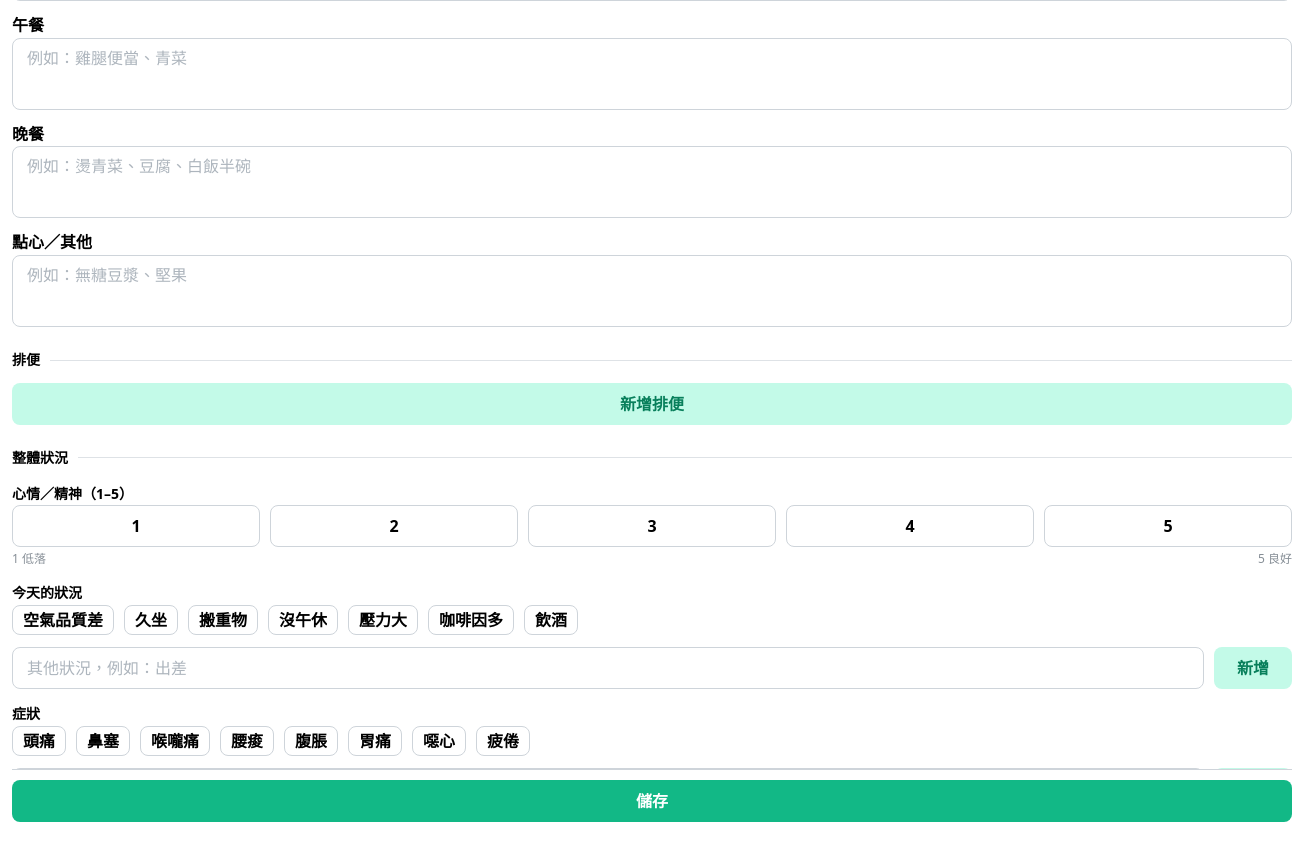
Test case: EntryForm：快速輸入 › 每一筆排便各自有「現在」按鈕，只改自己那一筆
(page scrolled)
Click the button "新增排便" at (652, 404), box [12,383,1292,425]
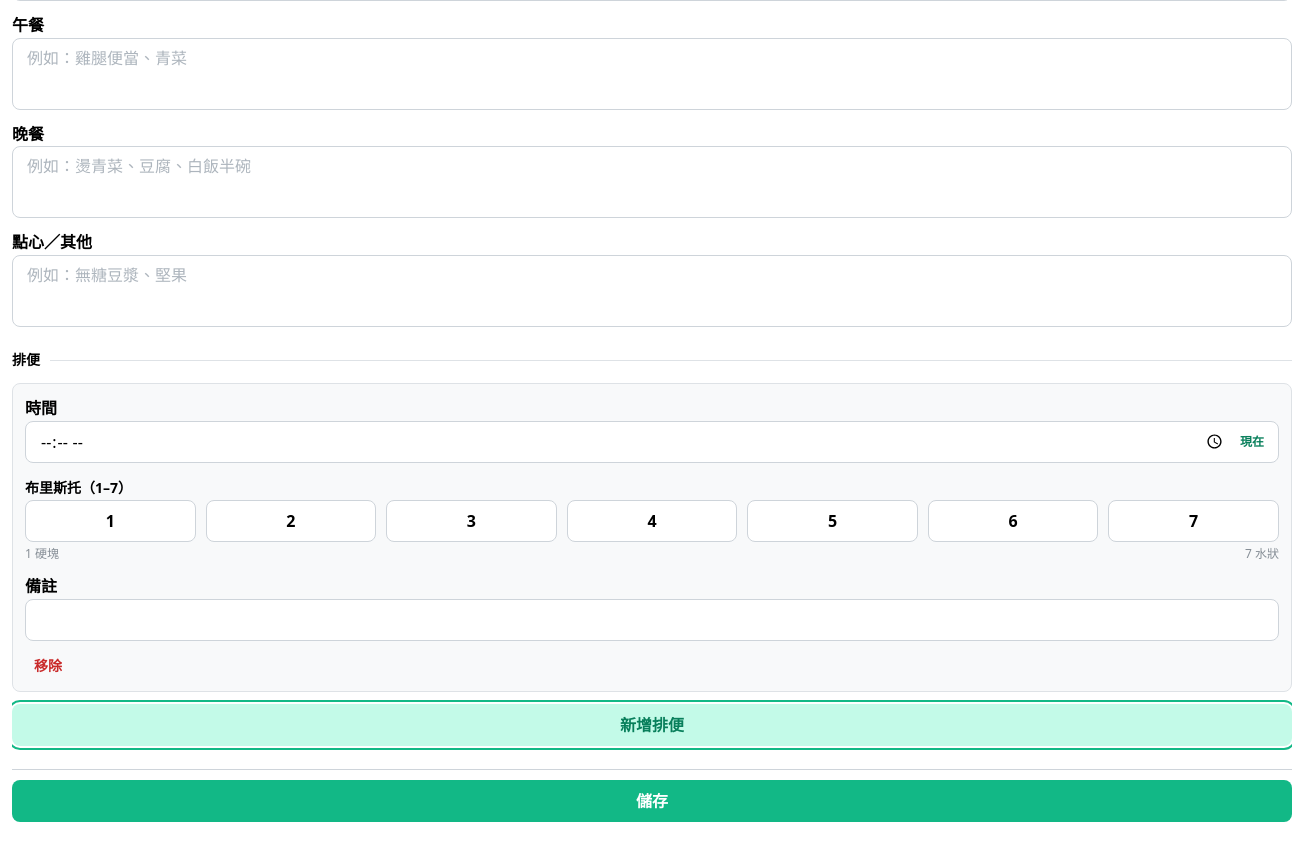
Click the button "新增排便" at (652, 725), box [12,704,1292,746]
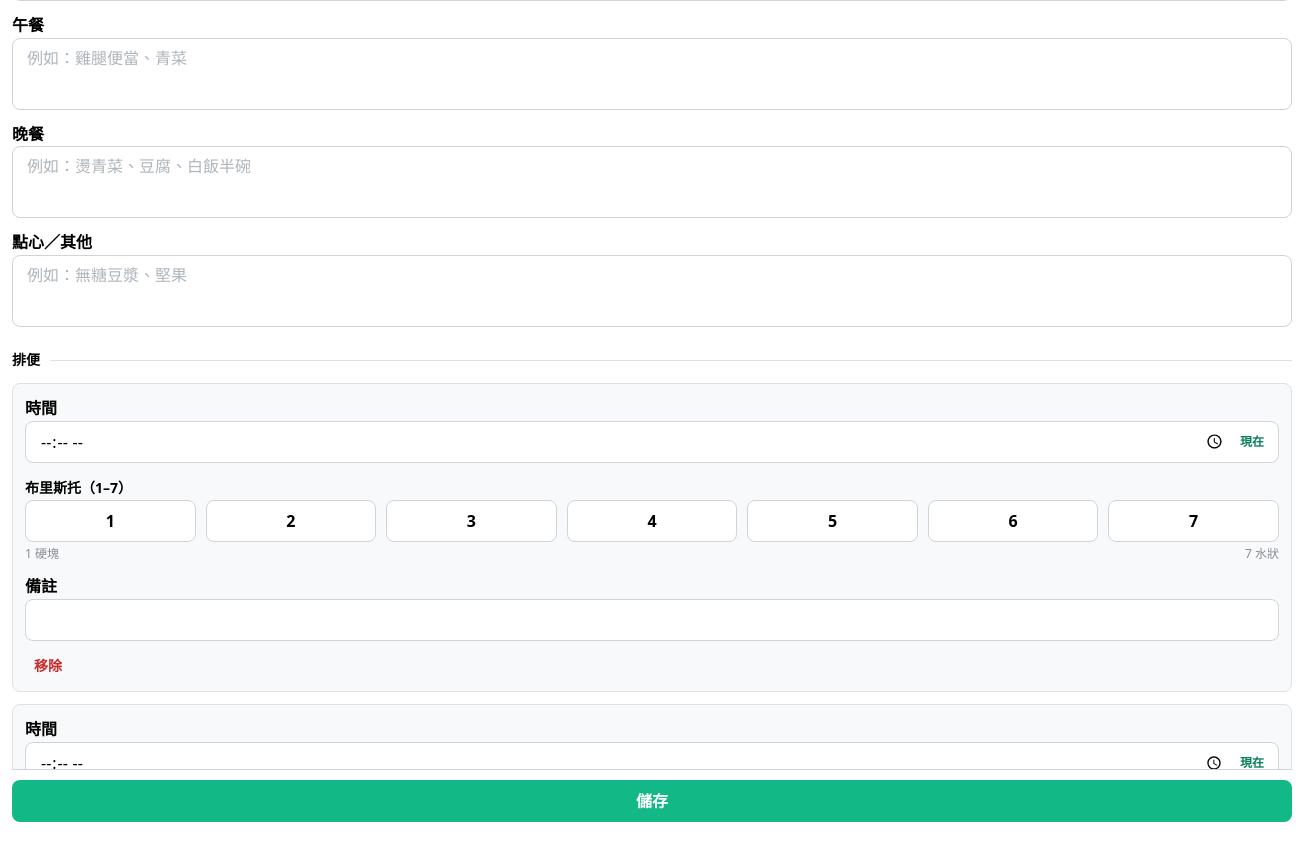
Click the button with aria-label "填入現在時刻：第 2 次排便" at (1252, 763), box [1232,752,1272,774]
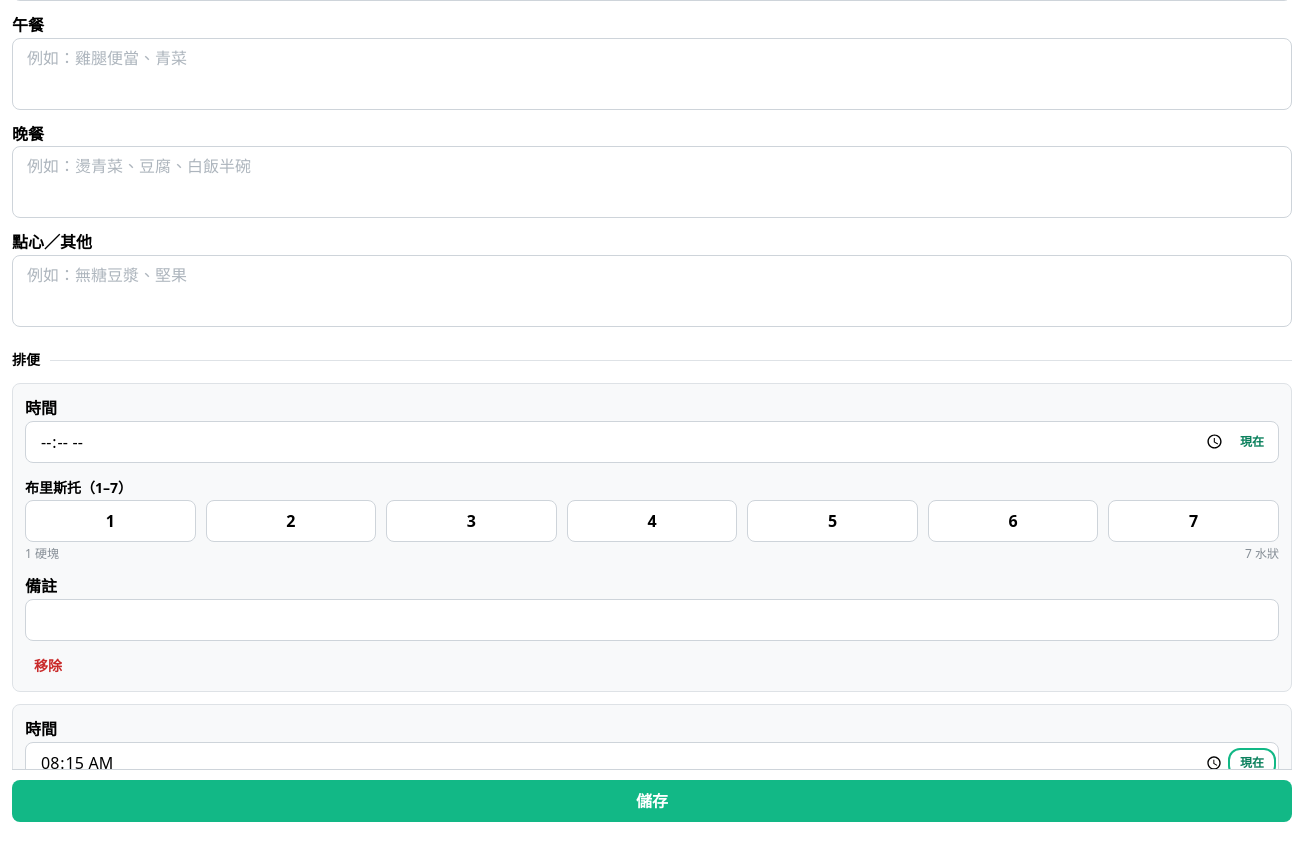
Result: the 1st time field labelled "時間" is empty at [25,421,1279,463]
Result: the 2nd time field labelled "時間" holds "08:15" at [25,742,1279,784]
